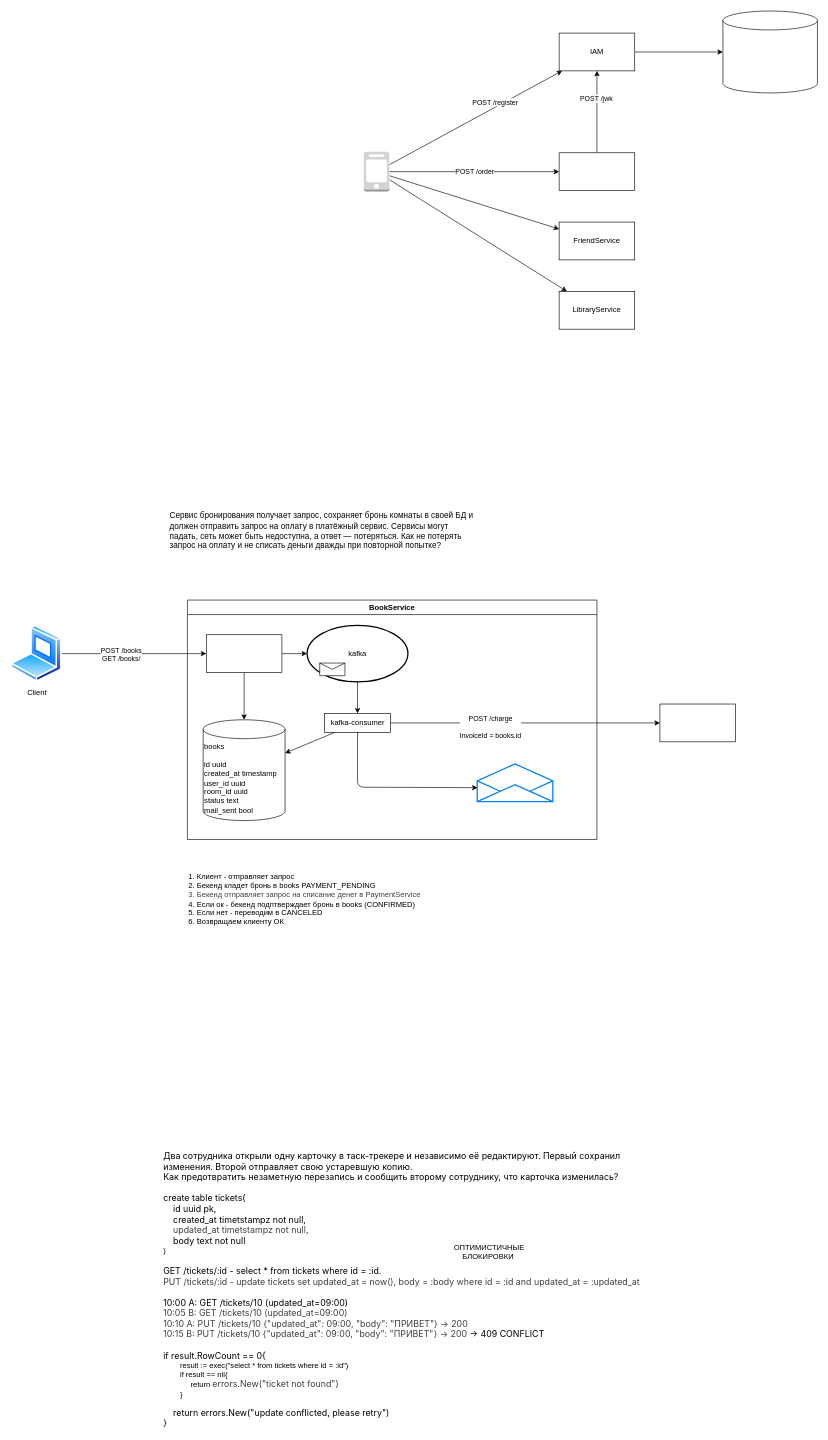
Some shapes in this 828 by 1440 pixel diagram are drawn without their labels. The centre of each missing label's shape, as x and y in pixels:
"OrderService" goes at pixel 596 171.
"PaymentService" goes at pixel 697 722.
"service" goes at pixel 244 653.
"users" goes at pixel 769 51.
